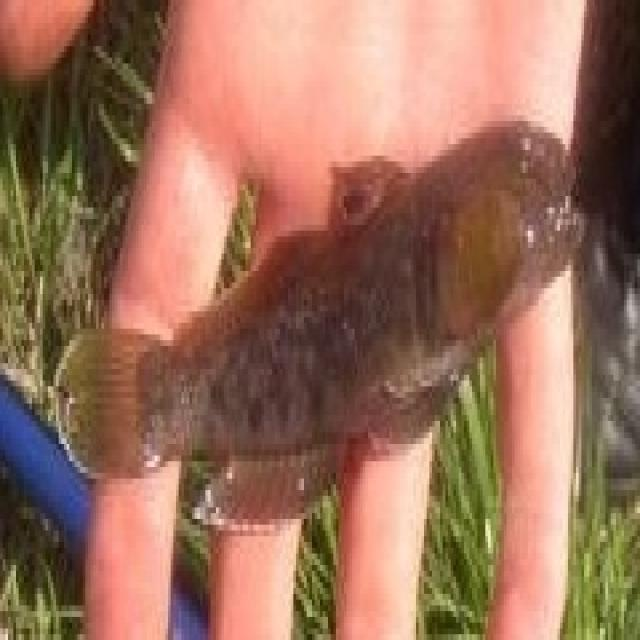Goby: (32, 52, 619, 592)
